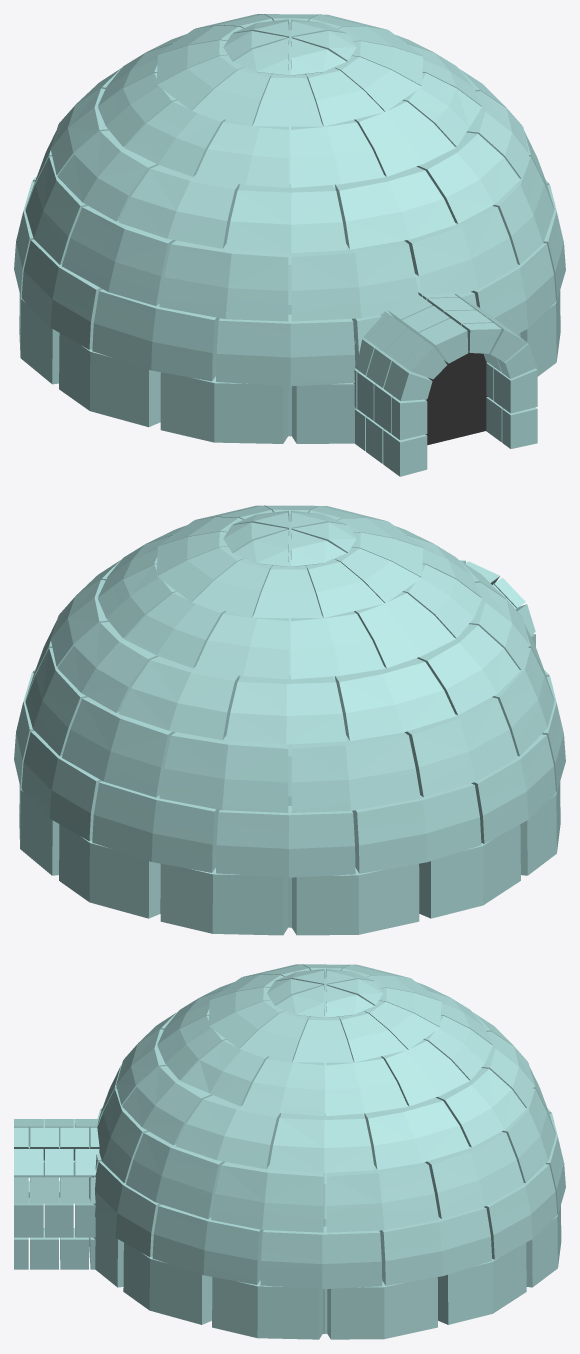
The model's file is FH_Igloo.fbx.
The picture shows the model from 3 angles, top to bottom: view 1: azimuth 30°, elevation 25°; view 2: azimuth 150°, elevation 25°; view 3: azimuth 270°, elevation 25°; orthographic projection. The views are drawn at different scales.
Visible parts, largest first — view 1: Plane; view 2: Plane; view 3: Plane.
Boxes of the visible parts, <box> form: Plane: <box>14,14,565,476</box>; Plane: <box>14,505,565,935</box>; Plane: <box>14,964,565,1339</box>.
Bounding box in the file's own units: 5325 × 3115 × 6101.
